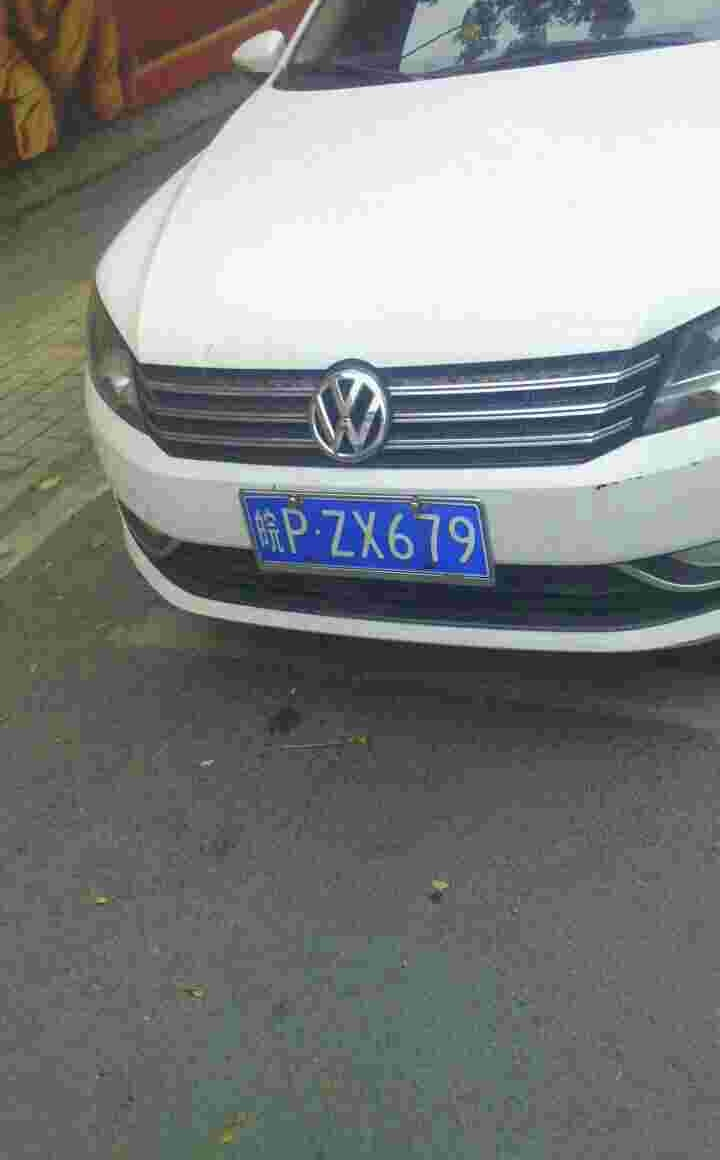license_plate: (250, 490, 475, 584)
